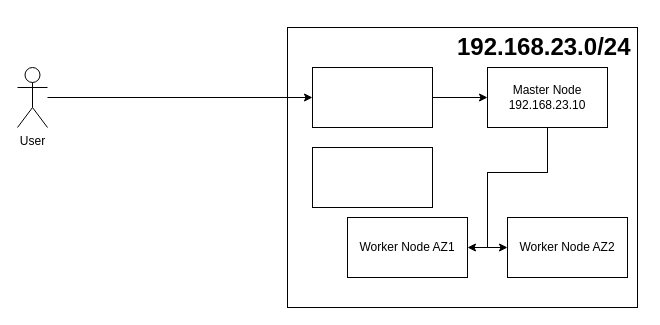
The diagram is 660 pixels wide and 325 high, and some of its shapes have lost their labels. Each missing label, with the centre of its shape:
"Bastion 192.168.23.8" goes at pixel 372 177.
"LB 192.168.23.7" goes at pixel 372 97.
